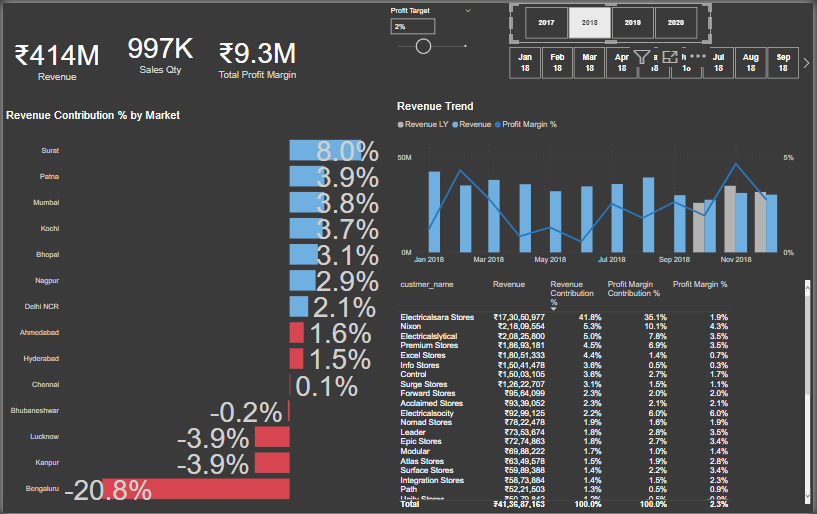

What the dashboard file says about the page in this screenshot:
{"tool":"powerbi","page":{"name":"Profit Analysis","canvas":[1350,850],"ordinal":1},"visuals":[{"type":"card","fields":{"Values":["BaseMeasures (2).Revenue"]},"box":[0,0,179.6,184.8],"z":0},{"type":"card","fields":{"Values":["BaseMeasures (2).Sales Qty"]},"box":[179.6,0,164.1,193],"z":1000},{"type":"barChart","title":"Profit % by market","fields":{"Y":["BaseMeasures (2).Profit Margin %"],"Category":["sales markets.markets_name"]},"box":[464.5,184.8,230.2,664.8],"z":2000},{"type":"barChart","title":"Profit Contribution % by Market","fields":{"Y":["BaseMeasures (2).Profit Margin Contribution %"],"Category":["sales markets.markets_name"]},"box":[221.9,185.8,208.5,659.6],"z":3000},{"type":"slicer","fields":{"Values":["sales date.year"]},"box":[483.2,0,335.5,66.5],"z":4000},{"type":"slicer","fields":{"Values":["sales date.cy_date"]},"box":[818.6,0,531.7,66.5],"z":5000},{"type":"tableEx","title":"Top 5 Customers","fields":{"Values":["sales customers.custmer_name","BaseMeasures (2).Revenue","BaseMeasures (2).Revenue Contribution %","BaseMeasures (2).Profit Margin Contribution %","BaseMeasures (2).Profit Margin %"]},"box":[701.9,454.2,648.3,395.4],"z":6000},{"type":"lineChart","title":"Revenue Trend","fields":{"Y":["BaseMeasures (2).Revenue"],"Category":["sales date.cy_date"]},"box":[701.9,104.3,621.4,338.6],"z":7000},{"type":"card","fields":{"Values":["BaseMeasures (2).Total Profit Margin"]},"box":[349.9,0,161,176.5],"z":8000},{"type":"barChart","title":"Revenue Contribution % by Market","fields":{"Y":["BaseMeasures (2).Revenue Contribution %"],"Category":["sales markets.markets_name"]},"box":[0,185.8,219.9,654.5],"z":9000}]}

Visuals, with their boxes in screenshot pixels (x1, y1, x2, y2), scaled from the page's 1350x850 canvas onto the 817x514 screenshot:
card - BaseMeasures (2).Revenue: box(0, 0, 109, 112)
card - BaseMeasures (2).Sales Qty: box(109, 0, 208, 117)
"Profit % by market" barChart: box(281, 112, 420, 513)
"Profit Contribution % by Market" barChart: box(134, 112, 260, 511)
slicer - sales date.year: box(292, 0, 495, 40)
slicer - sales date.cy_date: box(495, 0, 816, 40)
"Top 5 Customers" tableEx: box(425, 275, 816, 513)
"Revenue Trend" lineChart: box(425, 63, 801, 268)
card - BaseMeasures (2).Total Profit Margin: box(212, 0, 309, 107)
"Revenue Contribution % by Market" barChart: box(0, 112, 133, 508)
